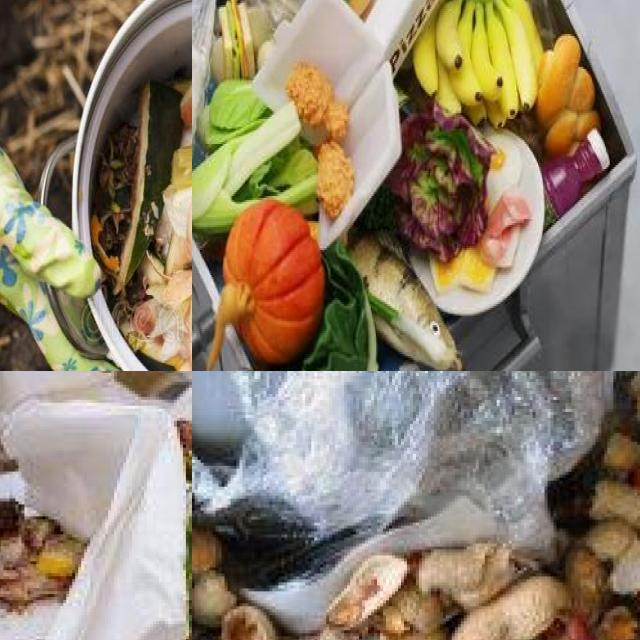Garbage: (192, 0, 615, 371), (192, 371, 640, 640), (0, 371, 192, 640), (88, 58, 192, 371)
contaminated_waste: (192, 371, 606, 550), (252, 0, 401, 248), (407, 130, 543, 314)
